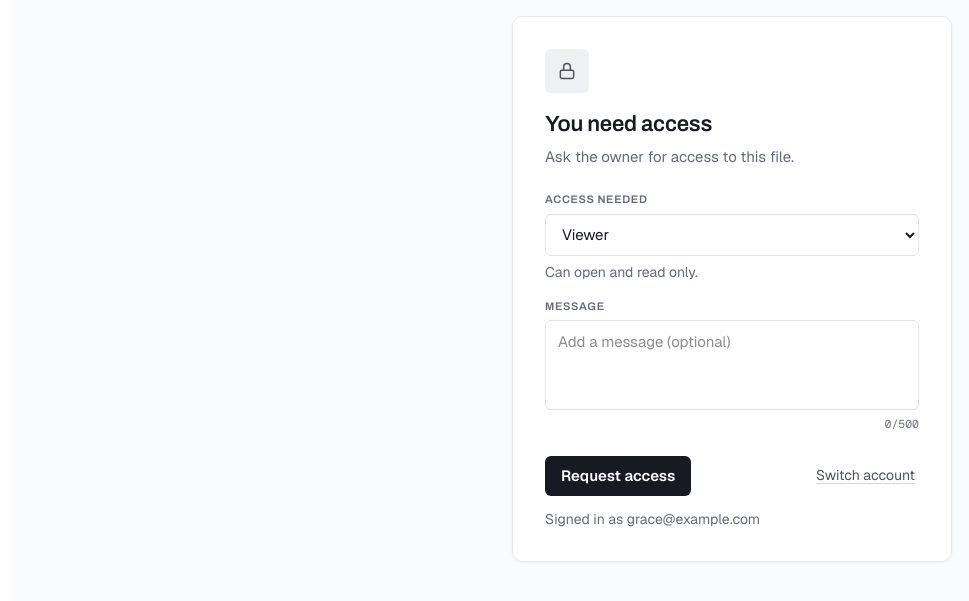
RequestAccess › sends the role and the message, says only that it was sent, and remembers it
The width and height of the screenshot is (969, 601).
Select "Collaborator" in the dropdown labelled "Access needed": {"x": 732, "y": 235} 545,214 -> 919,256
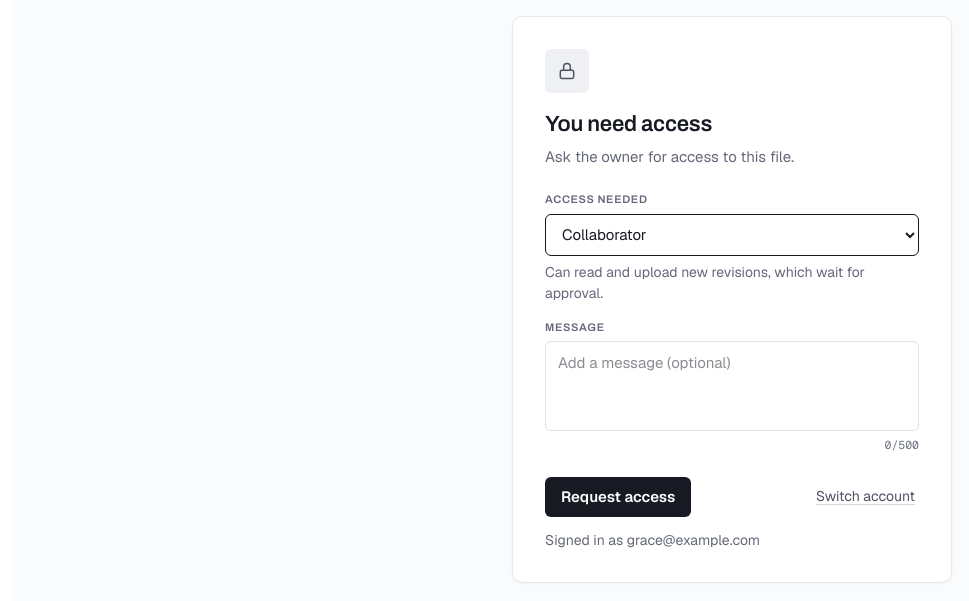
In the text box labelled "Message": {"x": 732, "y": 386} 545,341 -> 919,431, type "  For the Q3 review  "
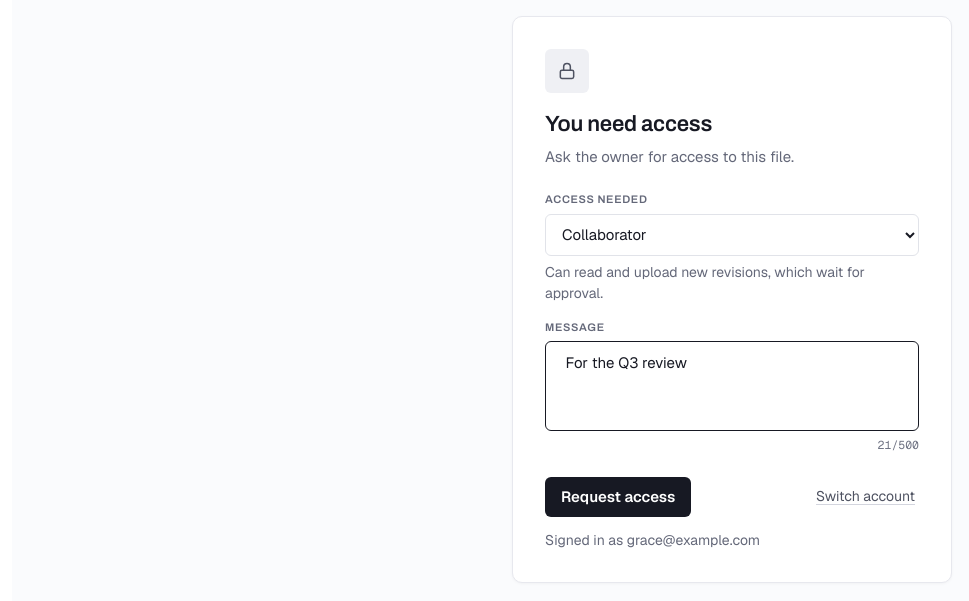
Click the button "Request access": {"x": 618, "y": 497} 545,477 -> 691,517
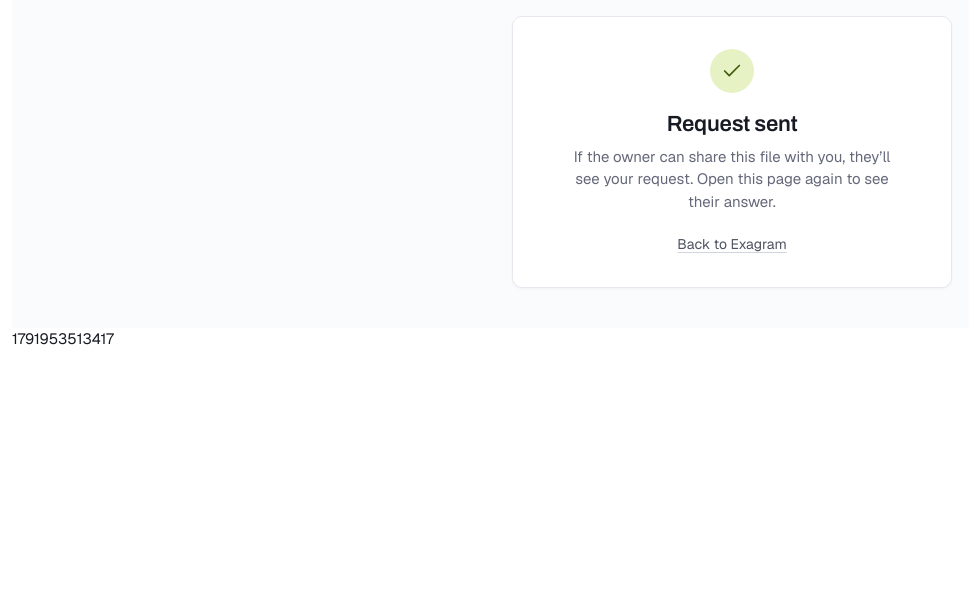
Expected: the heading "Request sent" is shown, 667,112 -> 797,136
